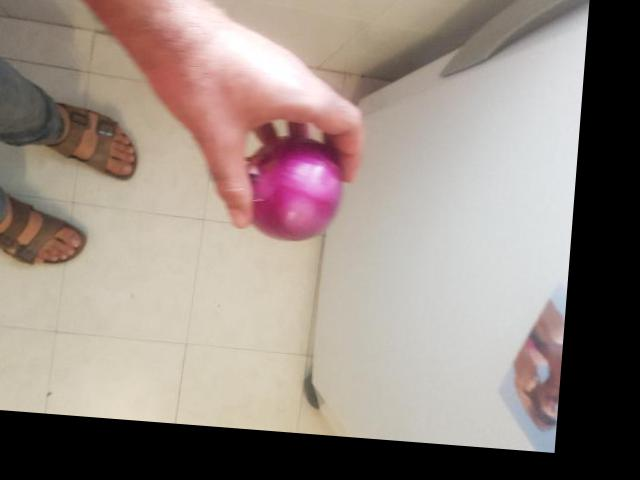onion: (245, 134, 348, 244)
